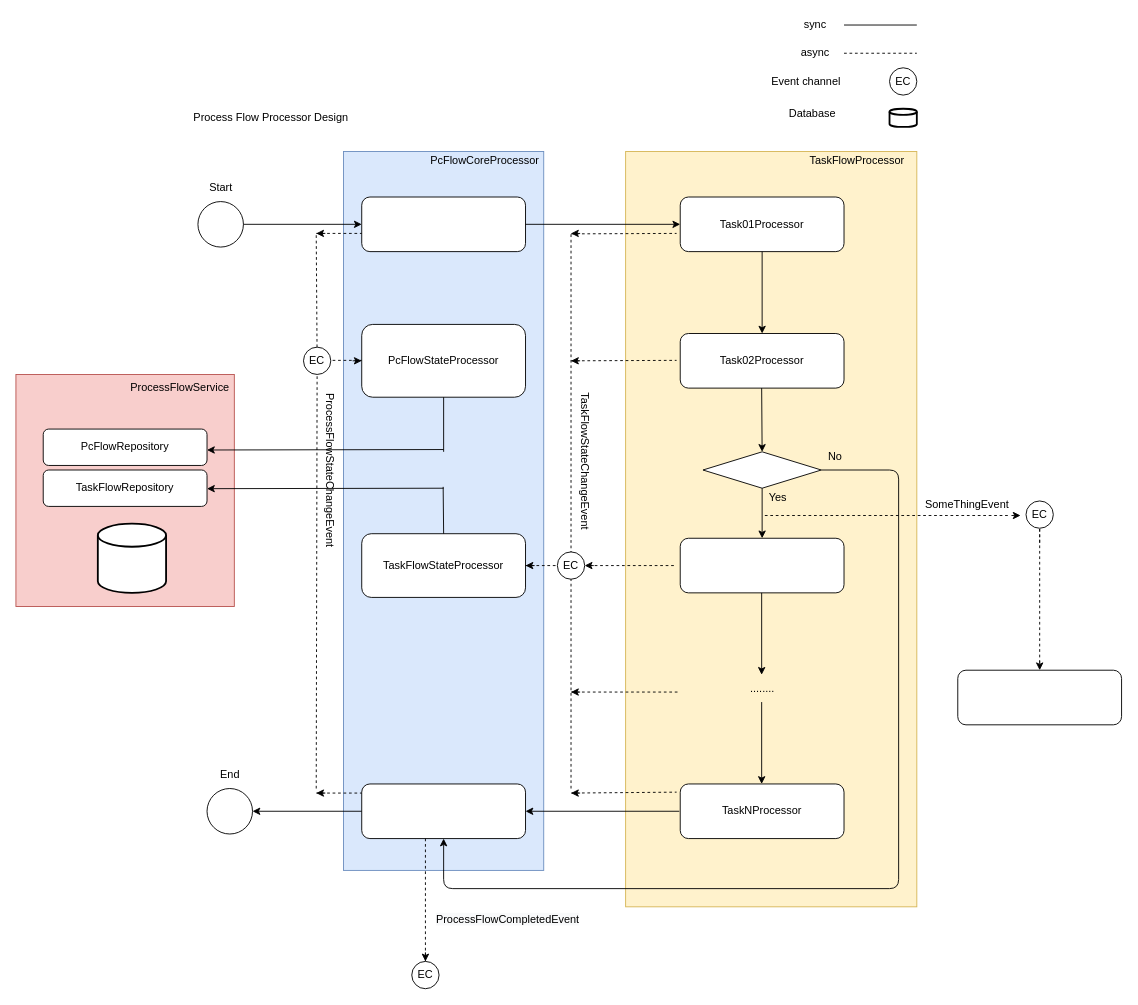
This 1138x1005 diagram has some shape labels left out. The centre of each missing label's shape, as x and y in pixels:
onComplete: [761,469]
PcFlowPosProcessor: [443,811]
PcFlowPreProcessor: [443,224]
SomethingEventSubscriber (or Listener): [1039,697]
Task03Processor: [761,565]
